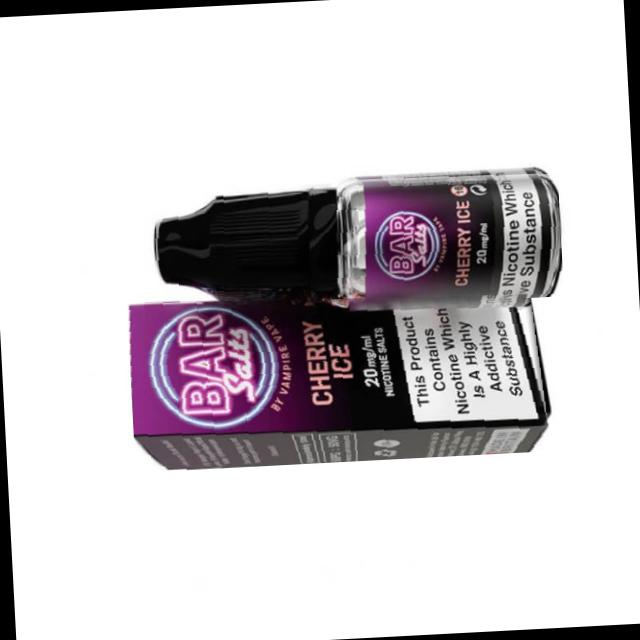Hazard: (127, 280, 553, 472), (150, 164, 564, 316)
